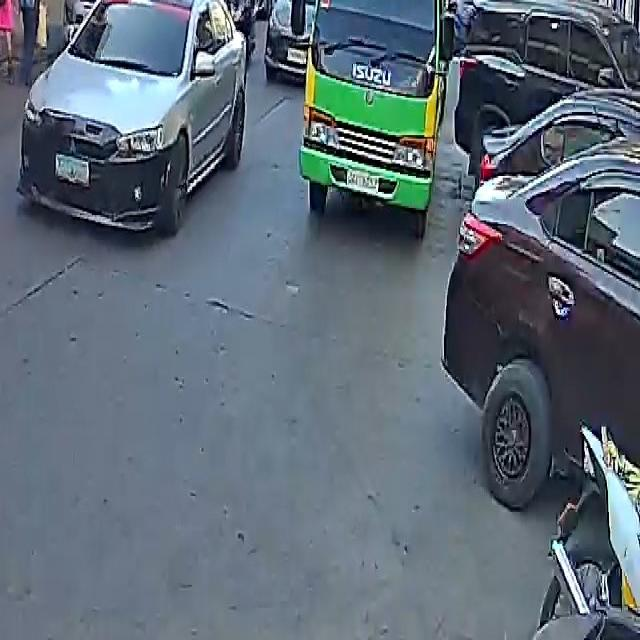car: (444, 75, 640, 521), (16, 0, 251, 235), (451, 0, 639, 188), (67, 0, 197, 21)
